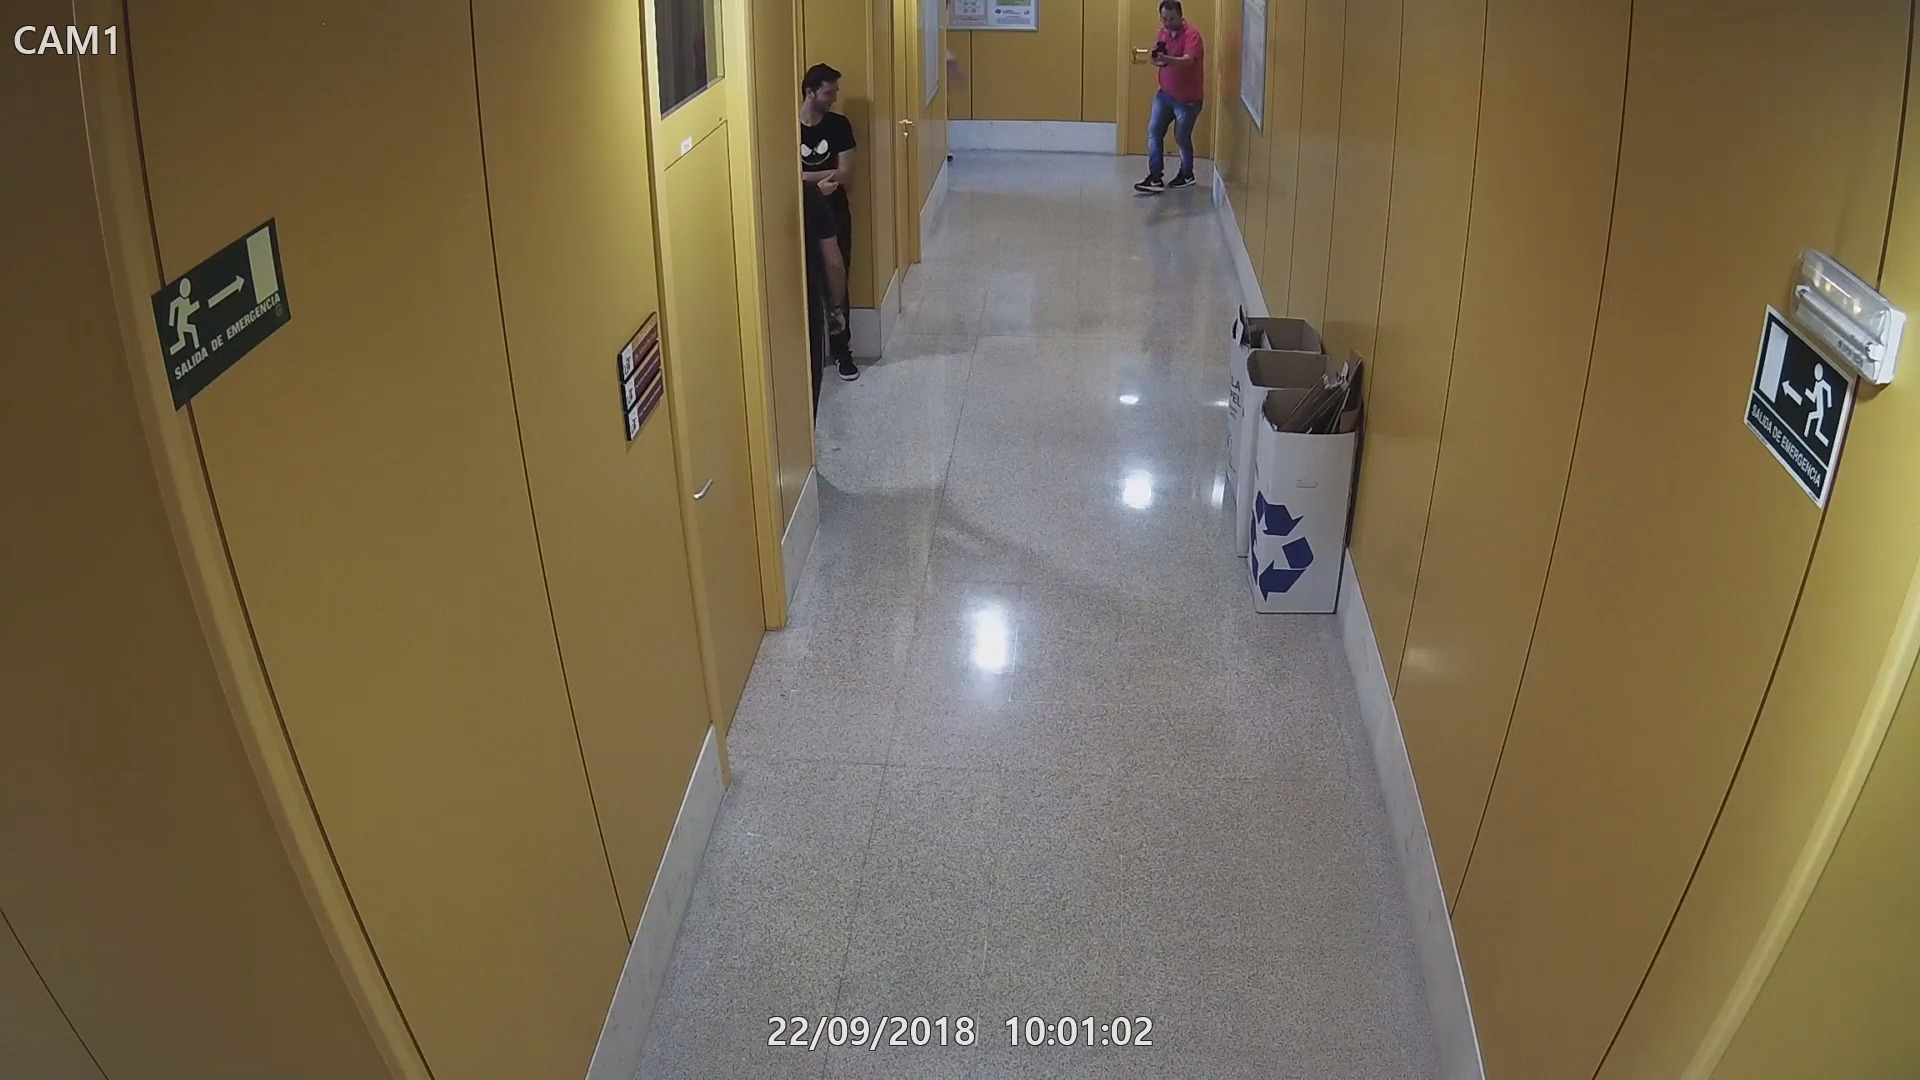Short_rifle: (1147, 37, 1174, 65)
